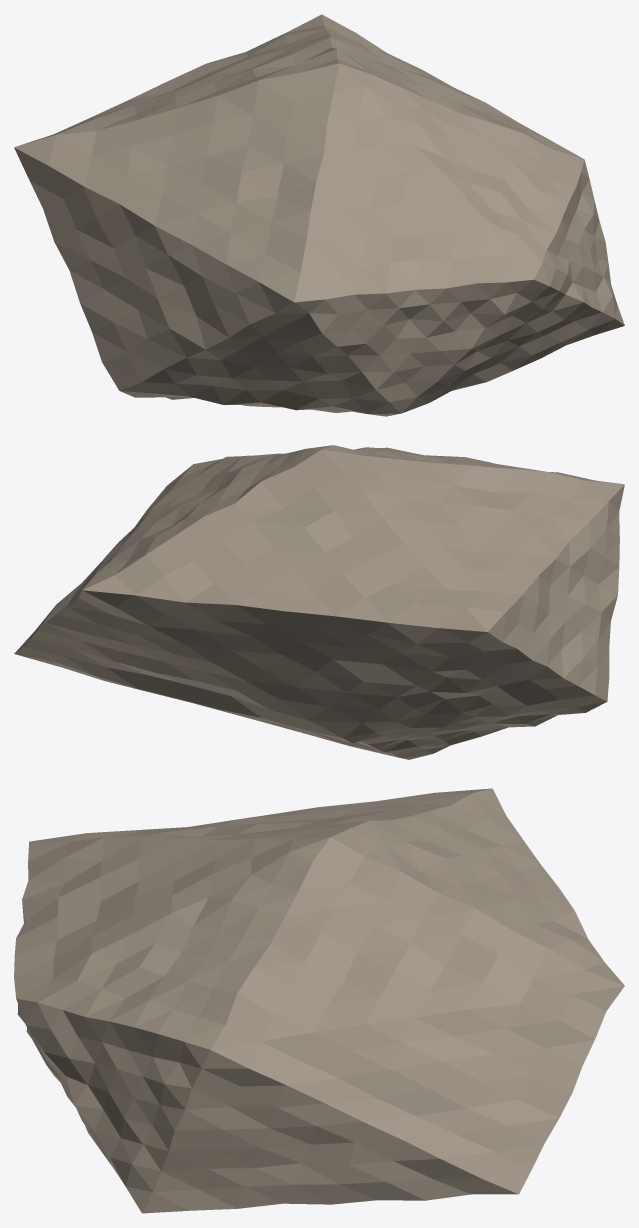
File: SM_GorgeRock_B.fbx
The picture shows the model from 3 angles, top to bottom: view 1: azimuth 30°, elevation 25°; view 2: azimuth 150°, elevation 25°; view 3: azimuth 270°, elevation 25°; orthographic projection. The views are drawn at different scales.
Visible parts, largest first — view 1: SM_GorgeRock_B; view 2: SM_GorgeRock_B; view 3: SM_GorgeRock_B.
Boxes of the visible parts, left/top/right/bottom form: SM_GorgeRock_B: left=14, top=14, right=624, bottom=416; SM_GorgeRock_B: left=14, top=445, right=624, bottom=759; SM_GorgeRock_B: left=14, top=788, right=624, bottom=1213.
Size of the model in its own units: 4.11 by 2.46 by 3.97.
